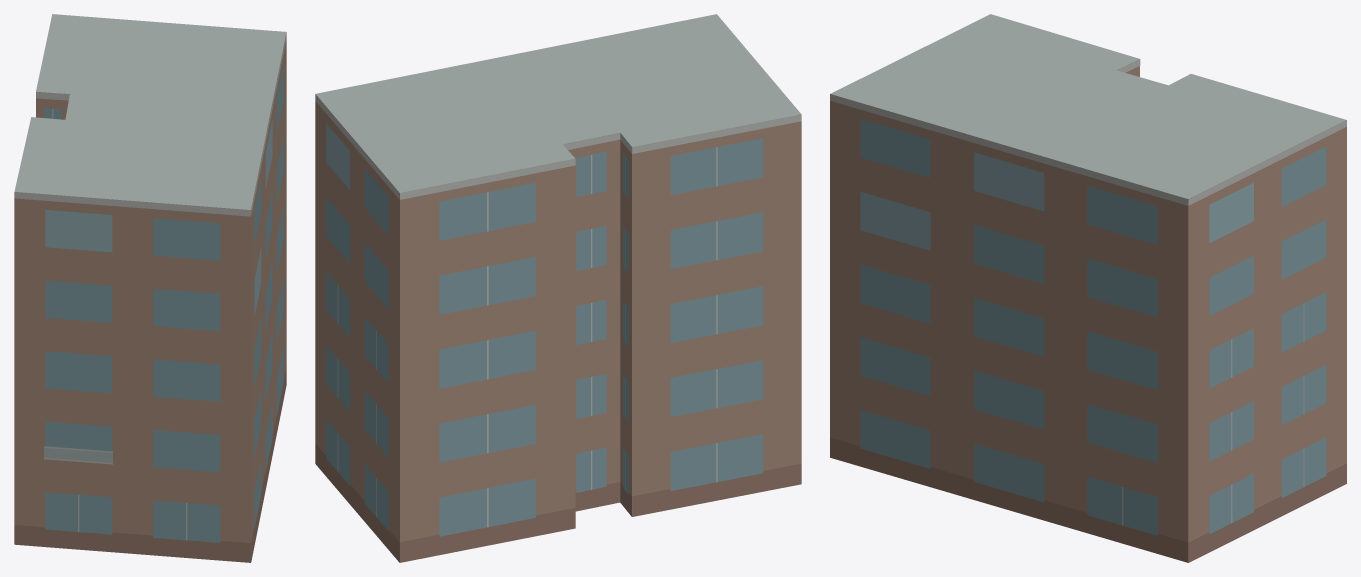
File: survey-upis-32777068.glb
3 renders of one model, left to right at view 1: azimuth 30°, elevation 25°; view 2: azimuth 150°, elevation 25°; view 3: azimuth 270°, elevation 25°, orthographic. The views are drawn at different scales.
Parts seen in each view (by area): view 1: survey-upis-32777068.tmp; view 2: survey-upis-32777068.tmp; view 3: survey-upis-32777068.tmp.
Boxes of the visible parts, x1,y1,x2,y2 form: survey-upis-32777068.tmp: [14, 14, 286, 562]; survey-upis-32777068.tmp: [315, 14, 801, 562]; survey-upis-32777068.tmp: [830, 14, 1346, 562].
Size of the model in its own units: 14.31 by 13.1 by 16.87.
